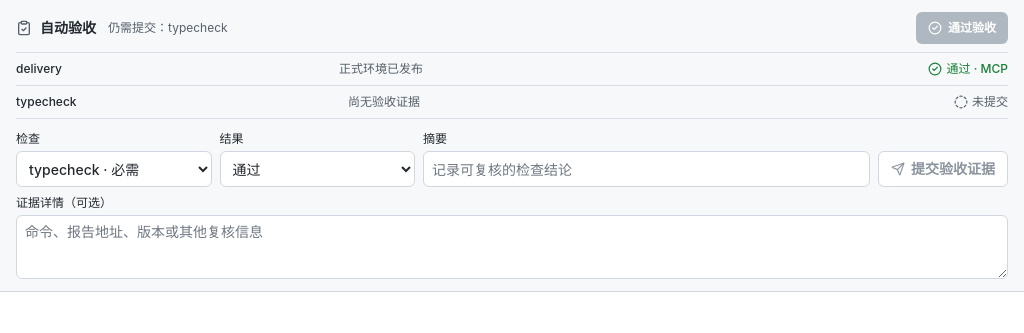
Test: TaskAcceptanceEvidence › preserves evidence input and shows an actionable error after submission fails
This screenshot has width=1024, height=333.
In the field named "证据摘要": (647, 169) left=423, top=151, right=870, bottom=187, type "本地检查通过"
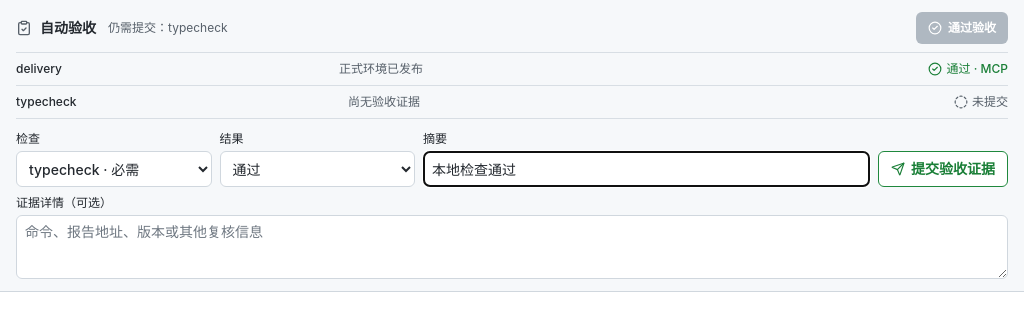
In the text box labelled "证据详情": (512, 247) left=16, top=215, right=1008, bottom=279, type "保留这段证据内容"
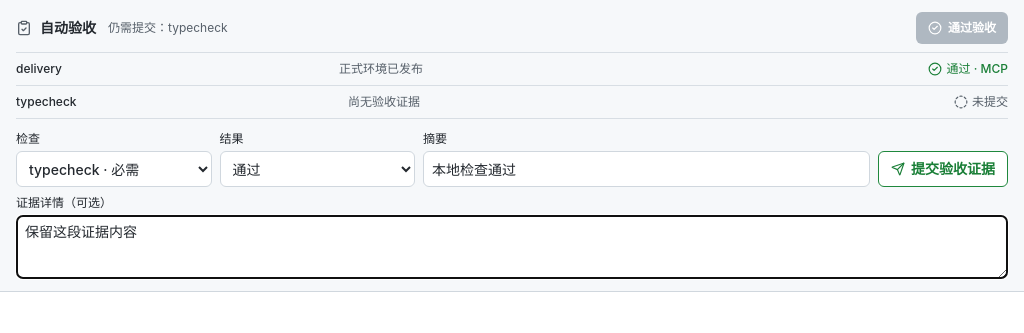
Click the button "提交验收证据": (943, 169) left=878, top=151, right=1008, bottom=187
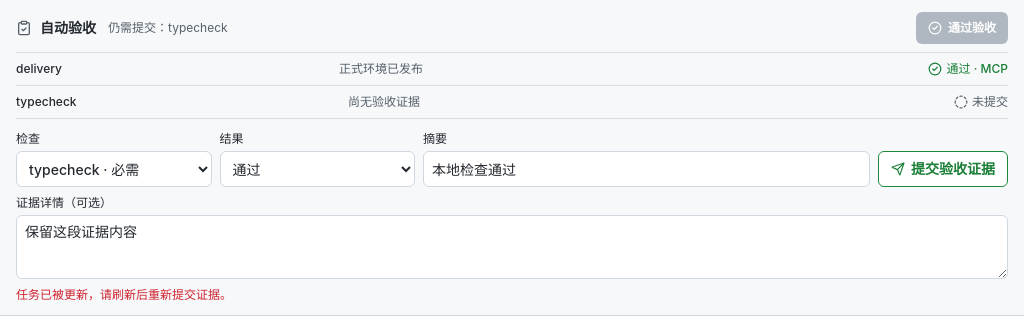
Check: the message shows "任务已被更新，请刷新后重新提交证据", box left=16, top=287, right=232, bottom=302
